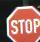Stop sign: (0, 0, 39, 41)
